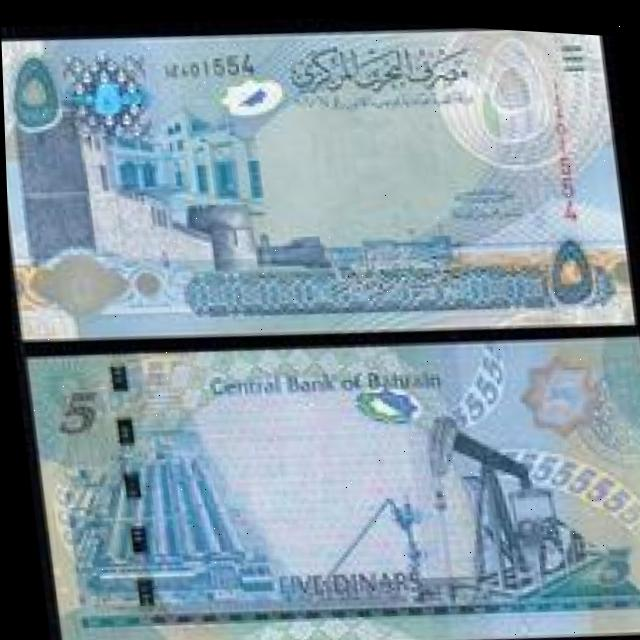banknote: (0, 0, 632, 365), (16, 293, 640, 640)
